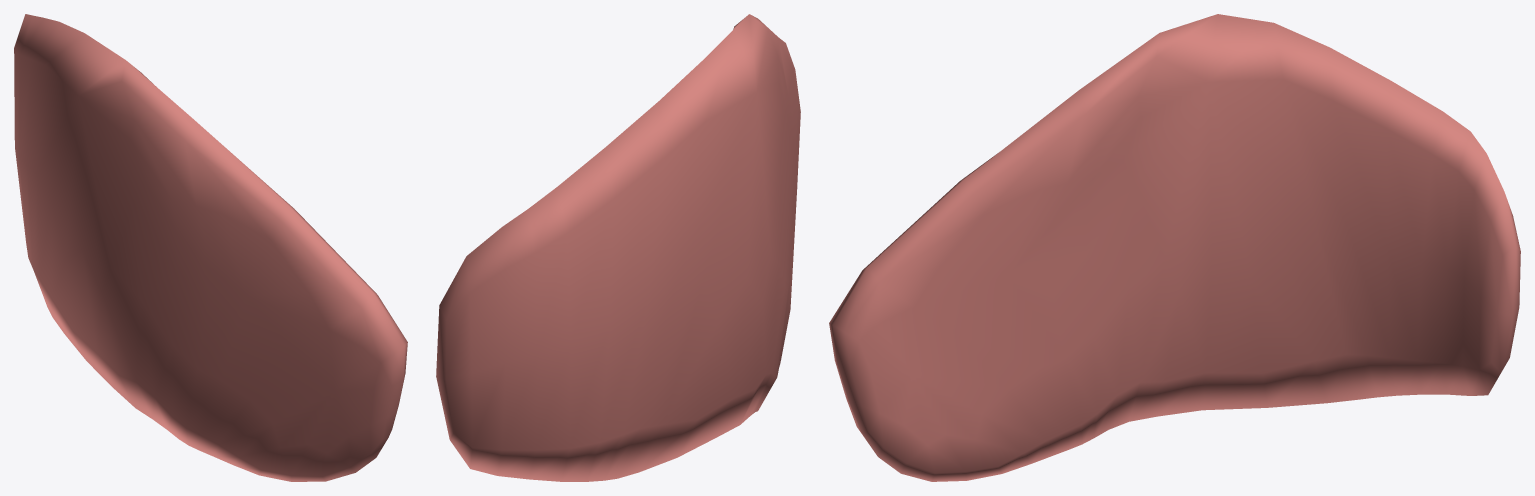
3 renders of one model, left to right at view 1: azimuth 30°, elevation 25°; view 2: azimuth 150°, elevation 25°; view 3: azimuth 270°, elevation 25°, orthographic. The views are drawn at different scales.
Visible parts, largest first — view 1: ZA_6e47f1d4058cbea2; view 2: ZA_6e47f1d4058cbea2; view 3: ZA_6e47f1d4058cbea2.
Part boxes in pixels (x1=…): ZA_6e47f1d4058cbea2: x1=14, y1=14, x2=407, y2=481; ZA_6e47f1d4058cbea2: x1=436, y1=14, x2=800, y2=481; ZA_6e47f1d4058cbea2: x1=829, y1=14, x2=1520, y2=481.
Size of the model in its own units: 0.00223 by 0.00503 by 0.0075.
